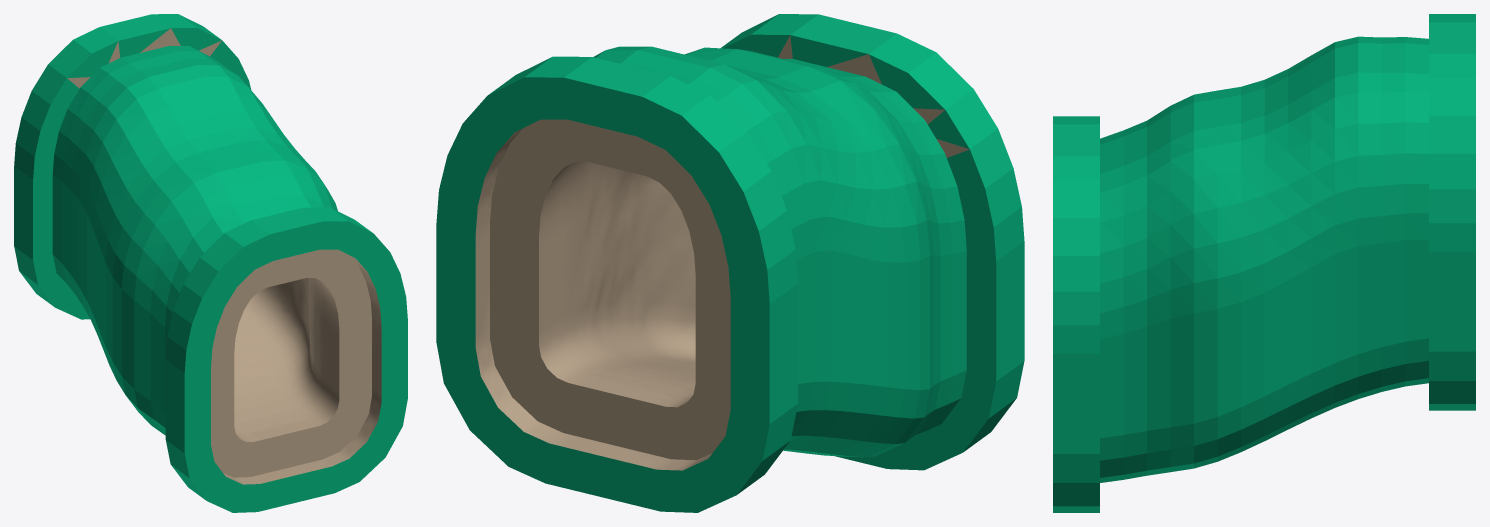
The model's file is TT_Slope.fbx.
3 renders of one model, left to right at view 1: azimuth 30°, elevation 25°; view 2: azimuth 150°, elevation 25°; view 3: azimuth 270°, elevation 25°, orthographic. The views are drawn at different scales.
Parts seen in each view (by area): view 1: TT_Slope_LOD0; view 2: TT_Slope_LOD0; view 3: TT_Slope_LOD0.
Boxes of the visible parts, x1=… form: TT_Slope_LOD0: x1=14, y1=14, x2=407, y2=512; TT_Slope_LOD0: x1=436, y1=14, x2=1024, y2=512; TT_Slope_LOD0: x1=1053, y1=14, x2=1475, y2=512.
Bounding box in the file's own units: 340 × 520 × 450.
